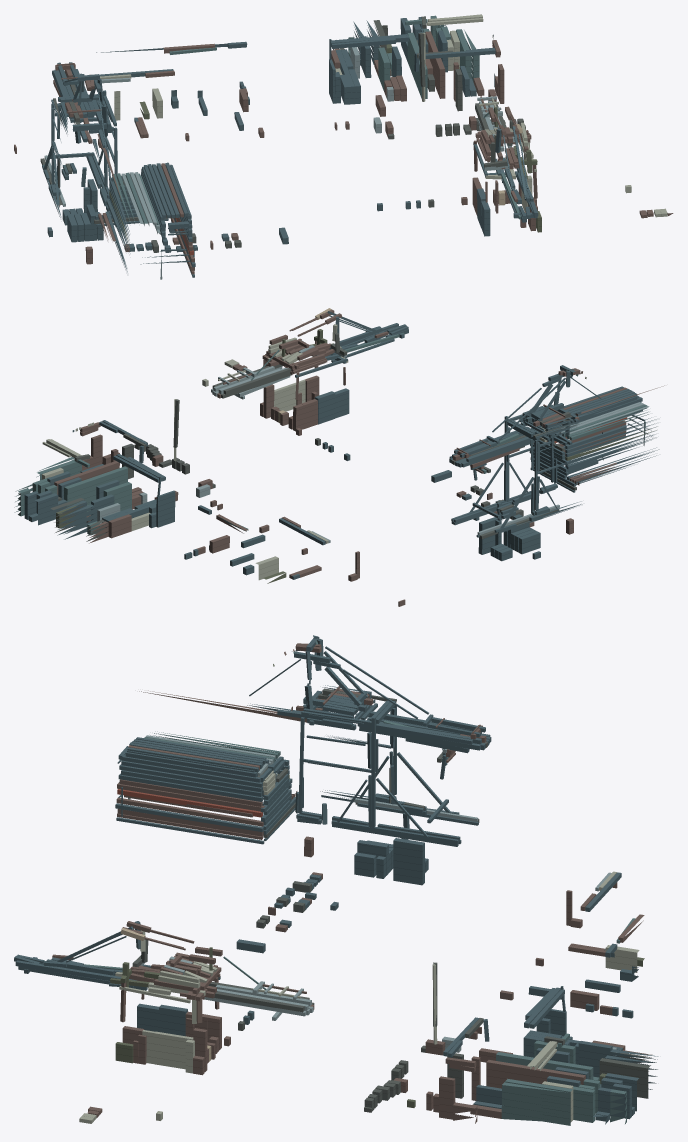
File: terminal-19---124_-27.glb
3 views of the same model, one above another, from view 1: azimuth 30°, elevation 25°; view 2: azimuth 150°, elevation 25°; view 3: azimuth 270°, elevation 25° (orthographic). The views are drawn at different scales.
Visible parts, largest first — view 1: measured-industrial; view 2: measured-industrial; view 3: measured-industrial.
Part boxes in pixels (x1,y1,x2,y2): measured-industrial: (14, 14, 673, 279); measured-industrial: (14, 308, 664, 606); measured-industrial: (14, 635, 658, 1125).
Size of the model in its own units: 274 by 91.59 by 254.
